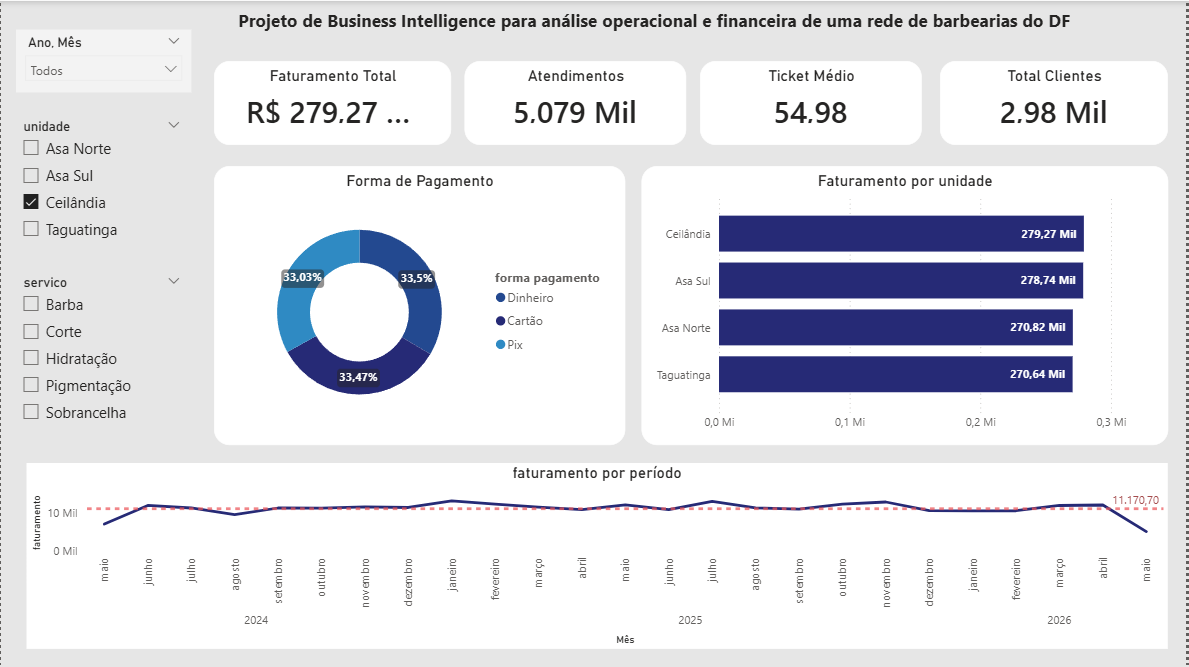

The dashboard page shown, as its layout file describes it:
{"tool":"powerbi","page":{"name":"Visão Geral","canvas":[1280,720],"ordinal":0},"visuals":[{"type":"cardVisual","title":"Faturamento Total","fields":{"Data":["Sum(barber atendimentos.valor)"]},"box":[229.9,64.8,255.8,90.7],"z":0},{"type":"cardVisual","title":"Atendimentos","fields":{"Data":["CountNonNull(barber atendimentos.id_atendimento)"]},"box":[500.3,64.8,239.6,90.7],"z":1000},{"type":"cardVisual","title":"Ticket Médio","fields":{"Data":["Avg(barber atendimentos.valor)"]},"box":[754.6,64.8,239.6,90.7],"z":2000},{"type":"cardVisual","title":"Total Clientes","fields":{"Data":["Count(barber clientes.id_cliente)"]},"box":[1013.6,64.8,246.1,90.7],"z":3000},{"type":"barChart","title":"Faturamento por unidade","fields":{"Category":["barber vw_faturamento_unidade.unidade"],"Y":["Sum(barber vw_faturamento_unidade.faturamento)"]},"box":[691.4,178.1,568.3,301.2],"z":4000},{"type":"lineChart","title":"faturamento por período","fields":{"Y":["Sum(barber atendimentos.valor)"],"Category":["barber atendimentos.data.Variation.Hierarquia de datas.Ano","barber atendimentos.data.Variation.Hierarquia de datas.Mês"]},"box":[27.5,498.7,1232.2,200.8],"z":5000},{"type":"donutChart","title":"Forma de Pagamento","fields":{"Y":["Sum(barber atendimentos.valor)"],"Category":["barber atendimentos.forma_pagamento"]},"box":[229.9,178.1,443.7,301.2],"z":6000},{"type":"slicer","fields":{"Values":["barber atendimentos.data.Variation.Hierarquia de datas.Ano","barber atendimentos.data.Variation.Hierarquia de datas.Mês"]},"box":[16.2,30.8,189.4,68],"z":7000},{"type":"slicer","fields":{"Values":["barber atendimentos.unidade"]},"box":[11.3,121.4,194.3,150.6],"z":8000},{"type":"slicer","fields":{"Values":["barber atendimentos.servico"]},"box":[11.3,289.8,194.3,174.9],"z":9000},{"type":"textbox","box":[251,3.2,931.1,40.5],"z":10000}]}

Visuals, with their boxes in screenshot pixels (x1, y1, x2, y2), scaled from the page's 1280x720 canvas onto the 1189x667 screenshot:
"Faturamento Total" cardVisual: left=214, top=60, right=451, bottom=144
"Atendimentos" cardVisual: left=465, top=60, right=687, bottom=144
"Ticket Médio" cardVisual: left=701, top=60, right=924, bottom=144
"Total Clientes" cardVisual: left=942, top=60, right=1170, bottom=144
"Faturamento por unidade" barChart: left=642, top=165, right=1170, bottom=444
"faturamento por período" lineChart: left=26, top=462, right=1170, bottom=648
"Forma de Pagamento" donutChart: left=214, top=165, right=626, bottom=444
slicer - barber atendimentos.data.Variation.Hierarquia de datas.Ano x barber atendimentos.data.Variation.Hierarquia de datas.Mês: left=15, top=29, right=191, bottom=92
slicer - barber atendimentos.unidade: left=10, top=112, right=191, bottom=252
slicer - barber atendimentos.servico: left=10, top=268, right=191, bottom=430
textbox: left=233, top=3, right=1098, bottom=40
